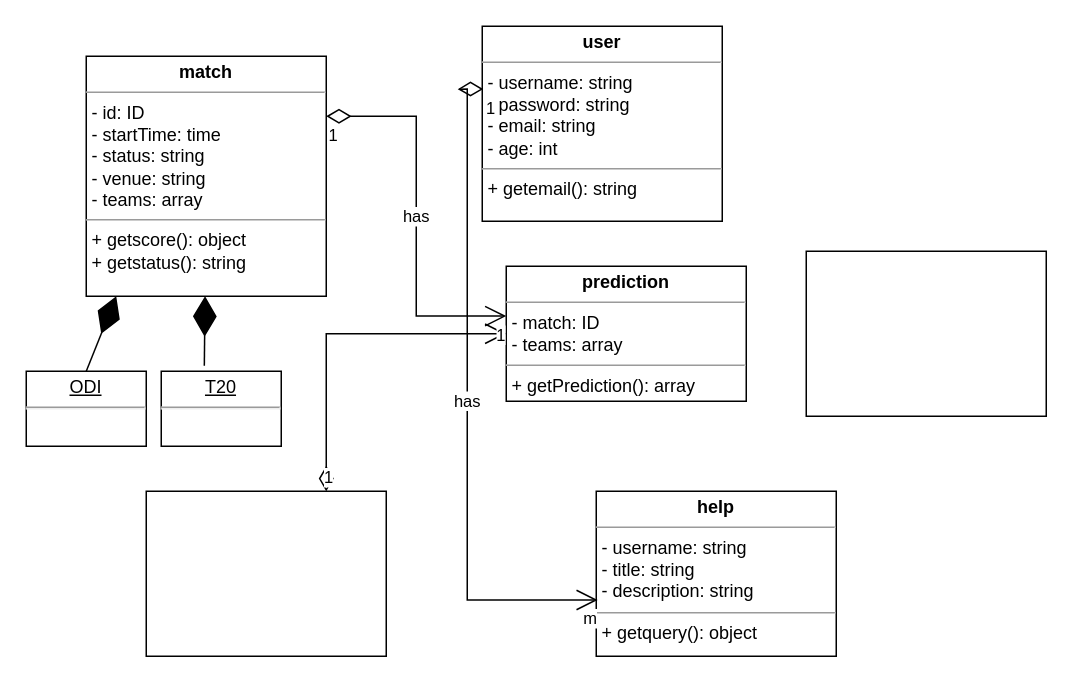
Some shapes in this 1073 by 683 pixel diagram are drawn without their labels. Each missing label, with the centre of its shape:
player - p_id: ID - name: string - prevscores: array + getscores(): array: pixel 265 573
team - name: string - shortname: string - players: array + getPlayers(): array: pixel 925 333
